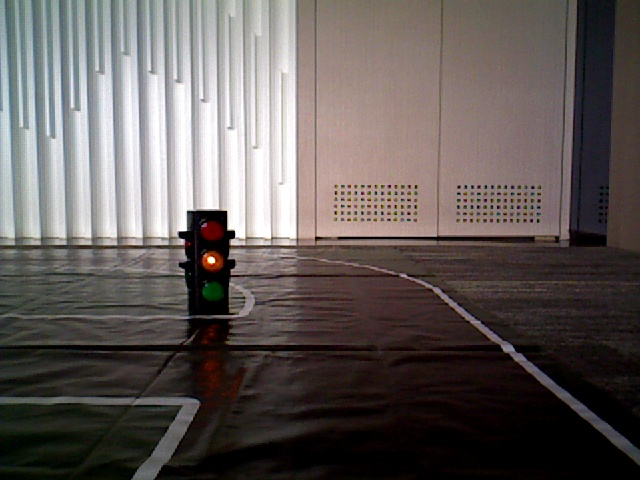yellow: (188, 212, 228, 310)
